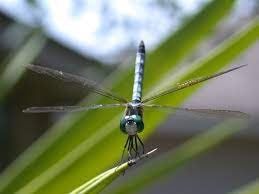insect: (21, 39, 249, 157)
